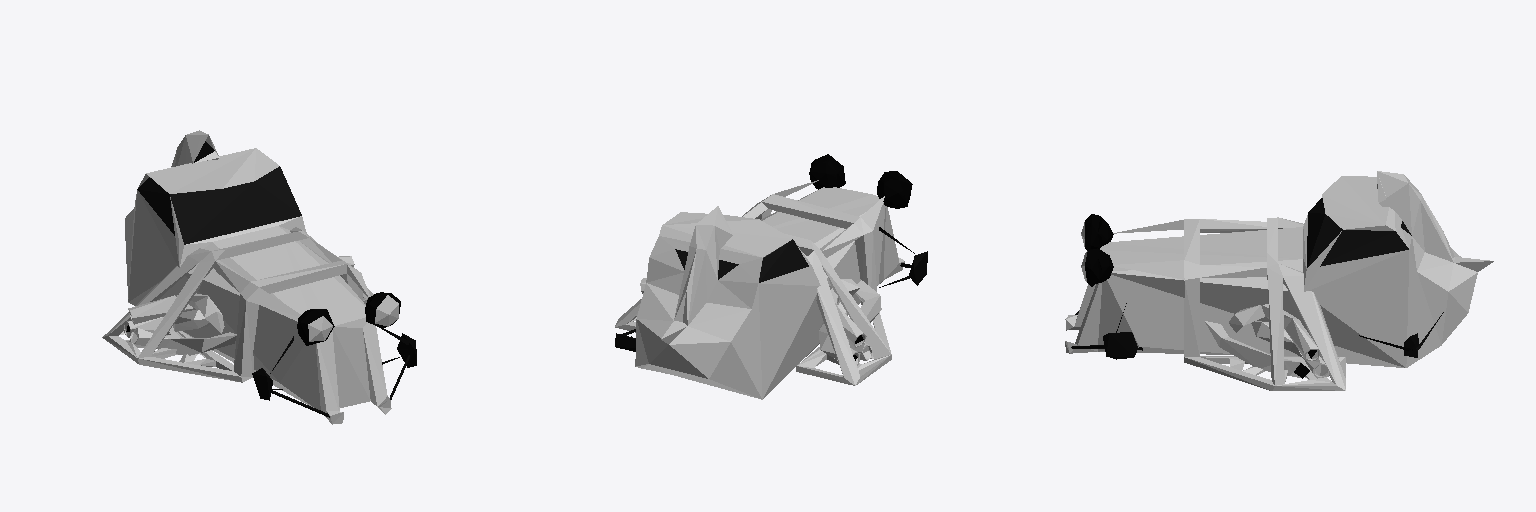
File: hot_rod_racing_body.obj
3 renders of one model, left to right at view 1: azimuth 30°, elevation 25°; view 2: azimuth 150°, elevation 25°; view 3: azimuth 270°, elevation 25°, orthographic.
Visible parts, largest first — view 1: Cube; view 2: Cube; view 3: Cube.
Boxes of the visible parts, x1=… form: Cube: x1=102, y1=130, x2=416, y2=424; Cube: x1=615, y1=154, x2=927, y2=399; Cube: x1=1065, y1=171, x2=1493, y2=390.
Size of the model in its own units: 3.17 by 2.14 by 4.87.